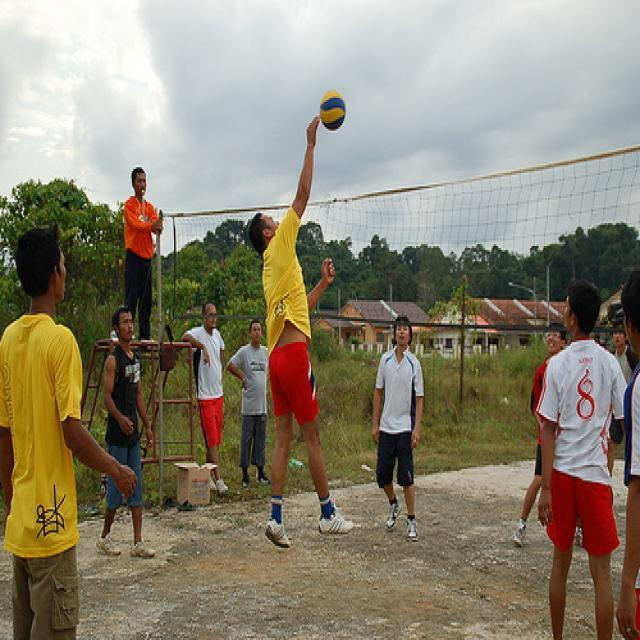volleyball: (319, 90, 346, 132)
